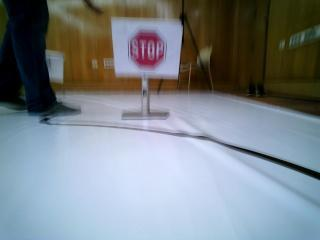stop: (114, 12, 188, 84)
